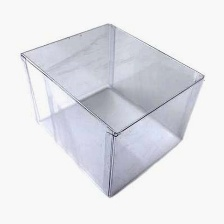plastic_box: (14, 15, 211, 203)
